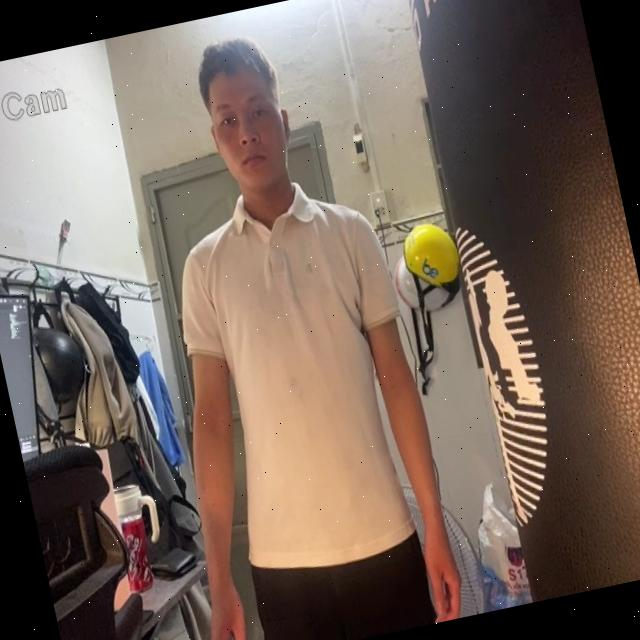u: (181, 184, 412, 567)
